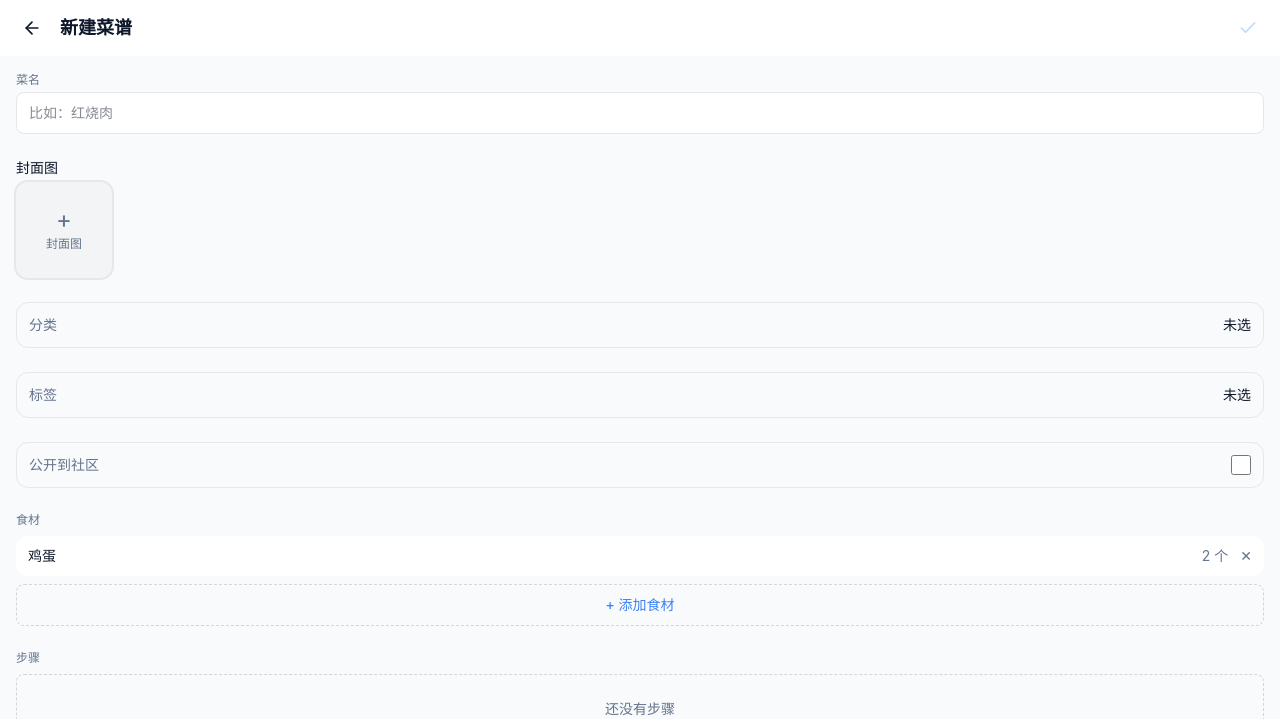
Test: RecipeEdit › 食材行可删，删完回到空态不报错
The image size is (1280, 719).
Check: the number of list items with test id "ingredient-row" is 1, box [16,536,1264,576]
Click the button with test id "ingredient-row-remove" at coordinates (1246, 556), box [1240,546,1252,566]
(page scrolled)
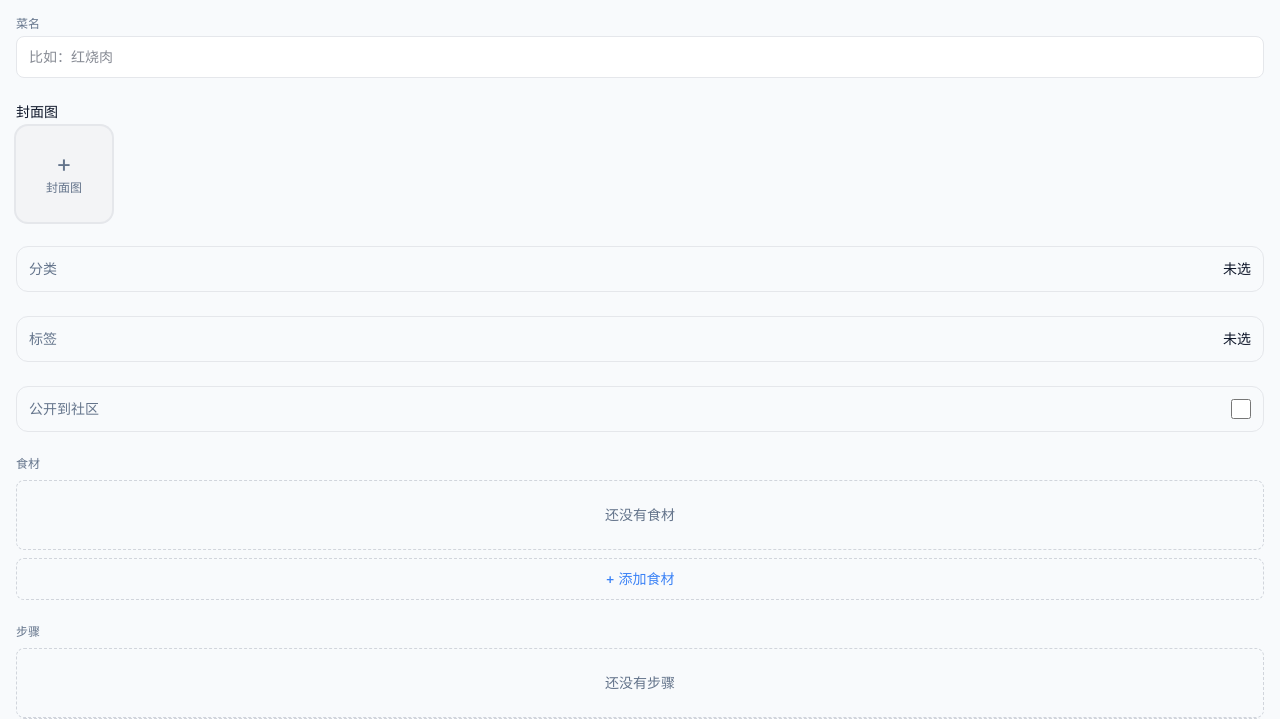
Check: no list items with test id "ingredient-row" are shown
Check: the element that starts with "新建菜谱" shows "还没有食材", box [605,506,675,523]
